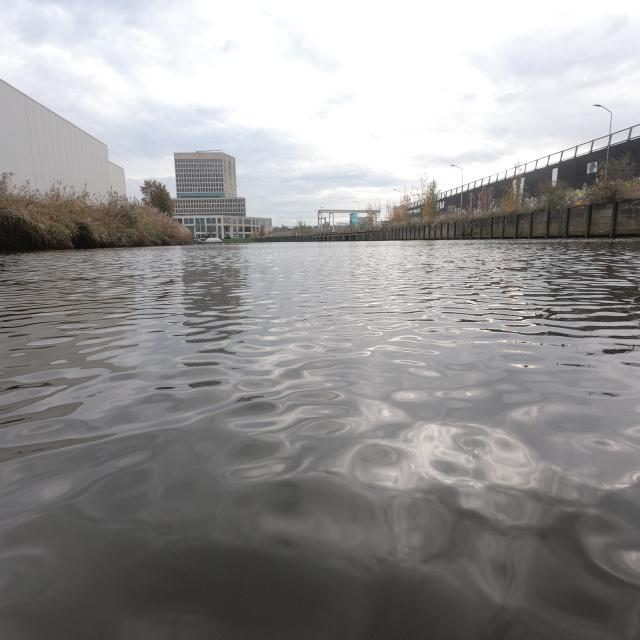reed: (2, 186, 192, 252)
sky: (0, 2, 638, 220)
wall: (446, 200, 638, 238)
water: (0, 238, 640, 640)
